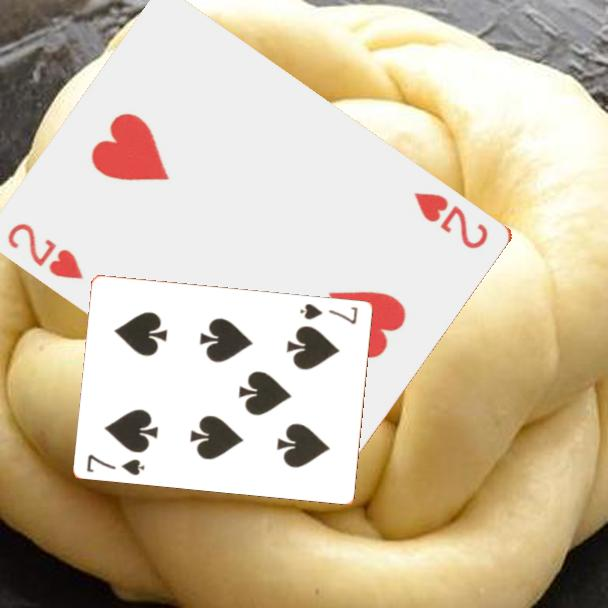h02: (4, 219, 88, 283), (410, 188, 492, 252)
s07: (84, 450, 148, 478), (297, 300, 361, 327)
